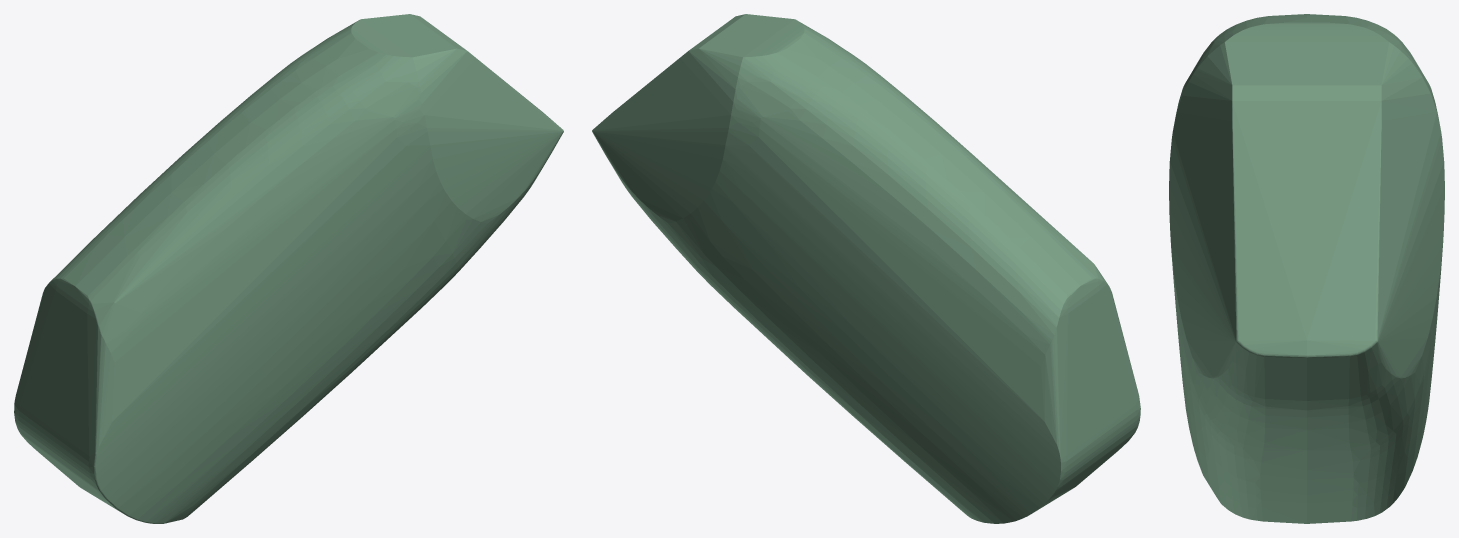
Rendered from right_thumb_proximal.obj.
The picture shows the model from 3 angles, left to right: view 1: azimuth 30°, elevation 25°; view 2: azimuth 150°, elevation 25°; view 3: azimuth 270°, elevation 25°; orthographic projection. The views are drawn at different scales.
Visible parts, largest first — view 1: geometry_0; view 2: geometry_0; view 3: geometry_0.
Boxes of the visible parts, <box> form: geometry_0: <box>14,14,563,523</box>; geometry_0: <box>592,14,1140,523</box>; geometry_0: <box>1169,14,1444,523</box>.
Size of the model in its own units: 0.0634 by 0.0501 by 0.0194.
